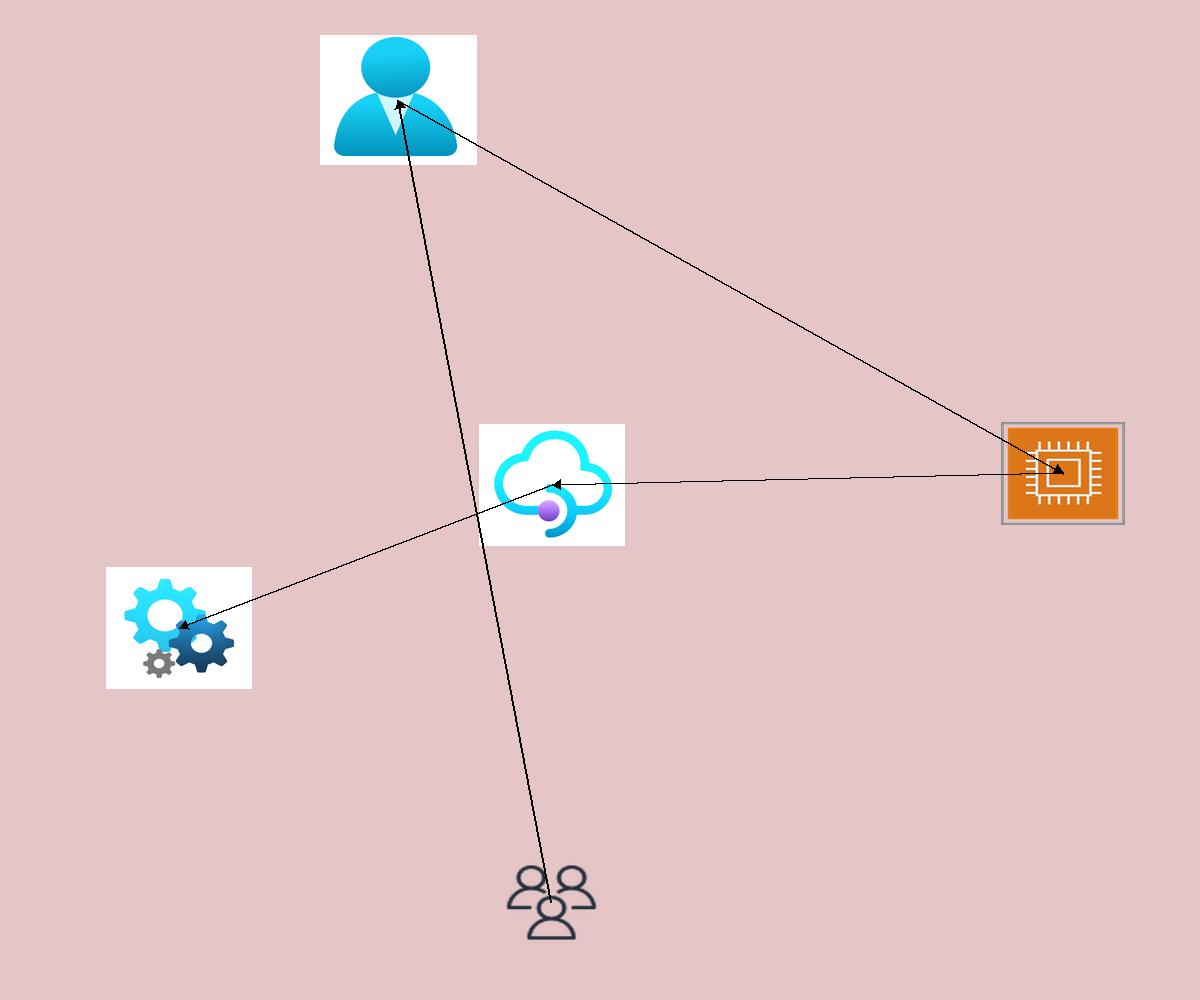AWS-Category_Compute: (1001, 422, 1125, 525)
AWS-Res_Users: (503, 862, 600, 943)
Azure_api: (106, 567, 252, 689)
Azure_api_gateway: (479, 424, 625, 546)
Azure_users: (320, 35, 477, 165)
